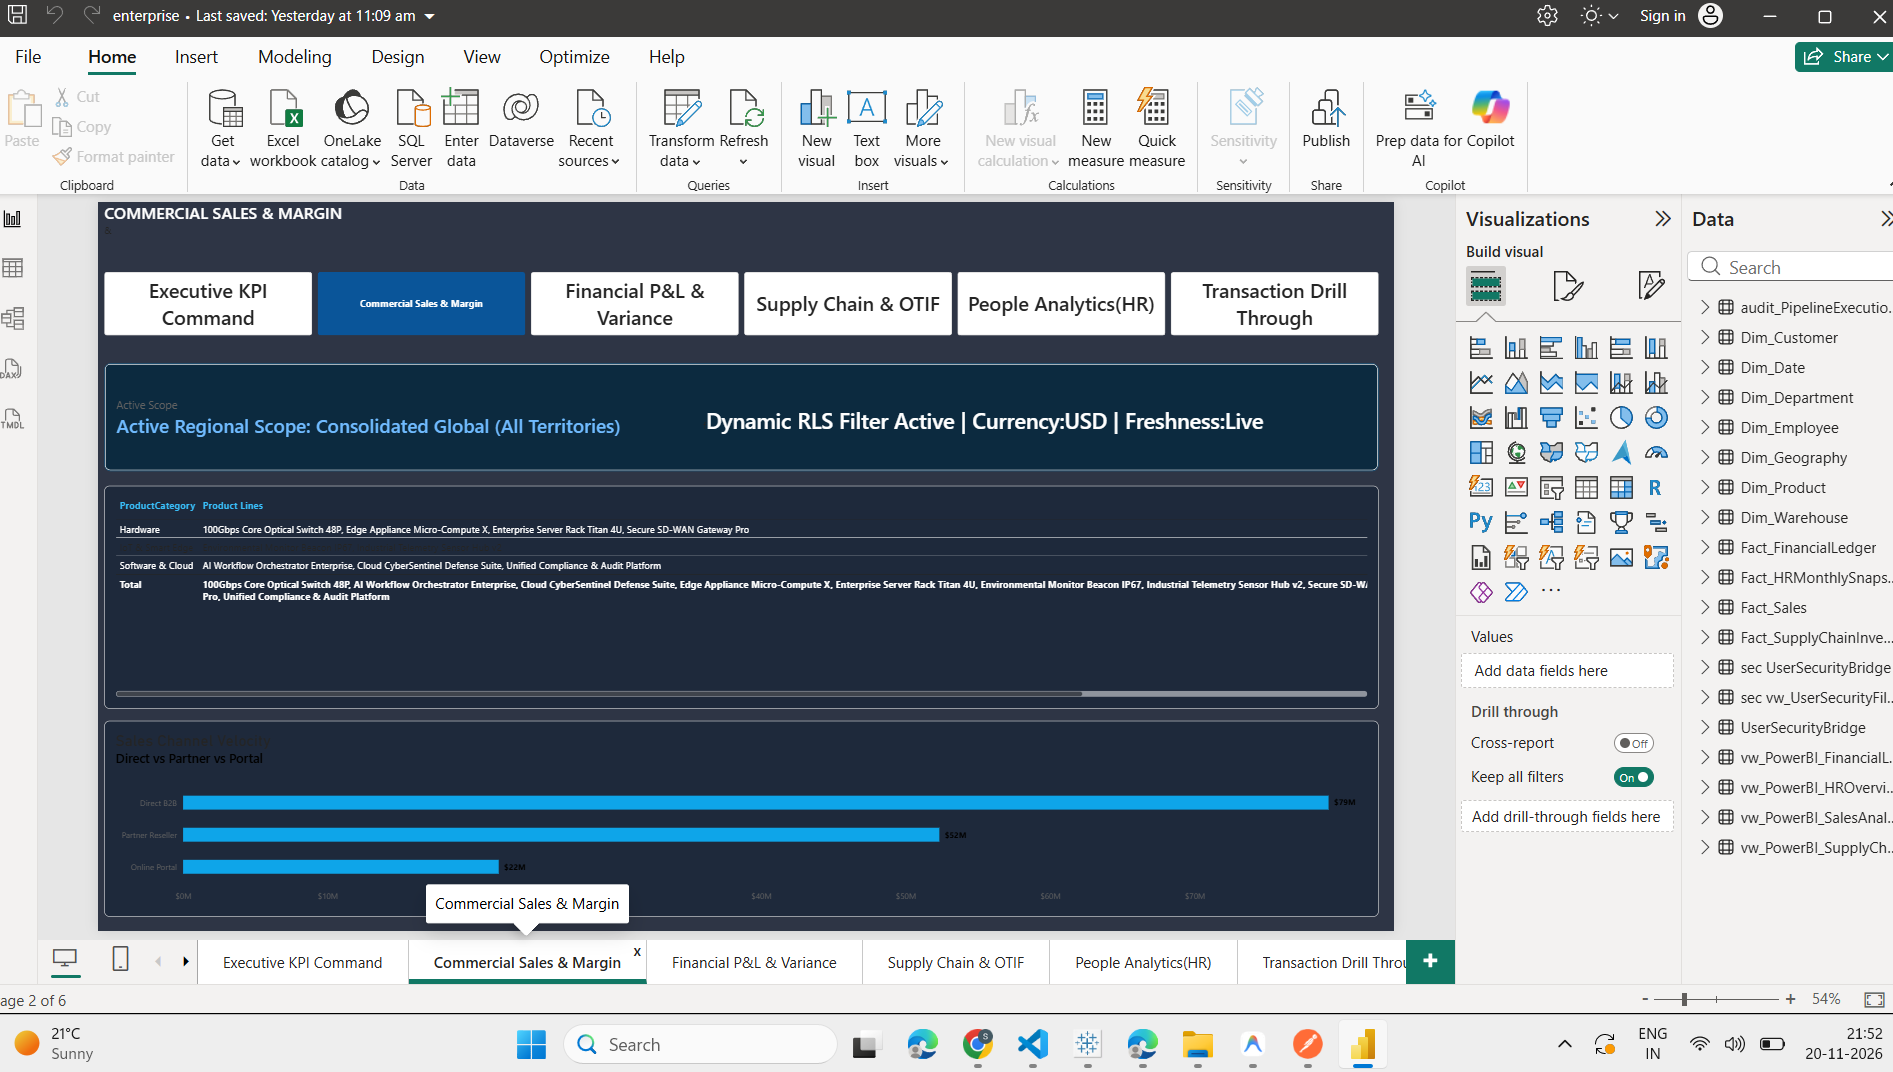

What the dashboard file says about the page in this screenshot:
{"tool":"powerbi","page":{"name":"Commercial Sales & Margin","canvas":[1920,1080],"ordinal":1},"visuals":[{"type":"textbox","box":[10,0,626,80],"z":0},{"type":"pageNavigator","box":[10,104,1888,94],"z":1},{"type":"cardVisual","fields":{"Data":["Fact_Sales.Active Scope"]},"box":[10,238,1888,160],"z":2},{"type":"textbox","box":[896,302,1002,54],"z":3},{"type":"tableEx","fields":{"Values":["Dim_Product.ProductCategory","Fact_Sales.Product Lines","Fact_Sales.Net Revenue","Fact_Sales.Gross Margin %","Fact_Sales.Revenue YoY %","Fact_Sales.Margin Status"]},"box":[10,420,1888,330],"z":4},{"type":"clusteredBarChart","title":"Sales Channel Velocity","fields":{"Category":["Fact_Sales.SalesChannel"],"Y":["Fact_Sales.Net Revenue"]},"box":[10,768,1888,290],"z":5}]}

Visuals, with their boxes on the page's 1920x1080 design canvas (x1, y1, x2, y2). These are canvas units, not pixel positions in the 1893x1072 screenshot, which may show the page scaled, cropped or inside an application window:
textbox: crop(10, 0, 636, 80)
pageNavigator: crop(10, 104, 1898, 198)
cardVisual - Fact_Sales.Active Scope: crop(10, 238, 1898, 398)
textbox: crop(896, 302, 1898, 356)
tableEx - Dim_Product.ProductCategory x Fact_Sales.Product Lines: crop(10, 420, 1898, 750)
"Sales Channel Velocity" clusteredBarChart: crop(10, 768, 1898, 1058)
